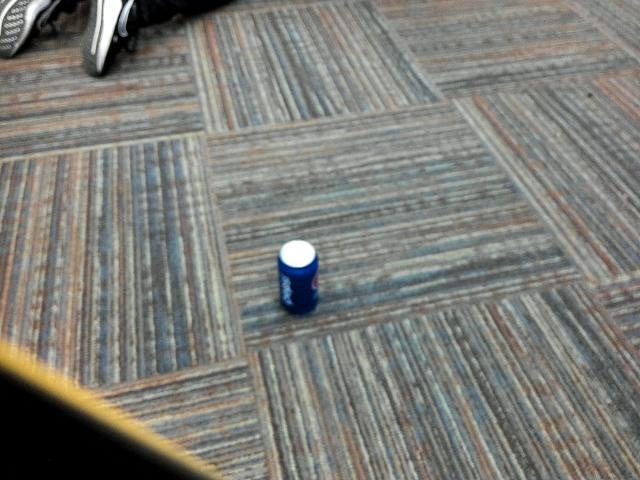can: (272, 233, 324, 316)
